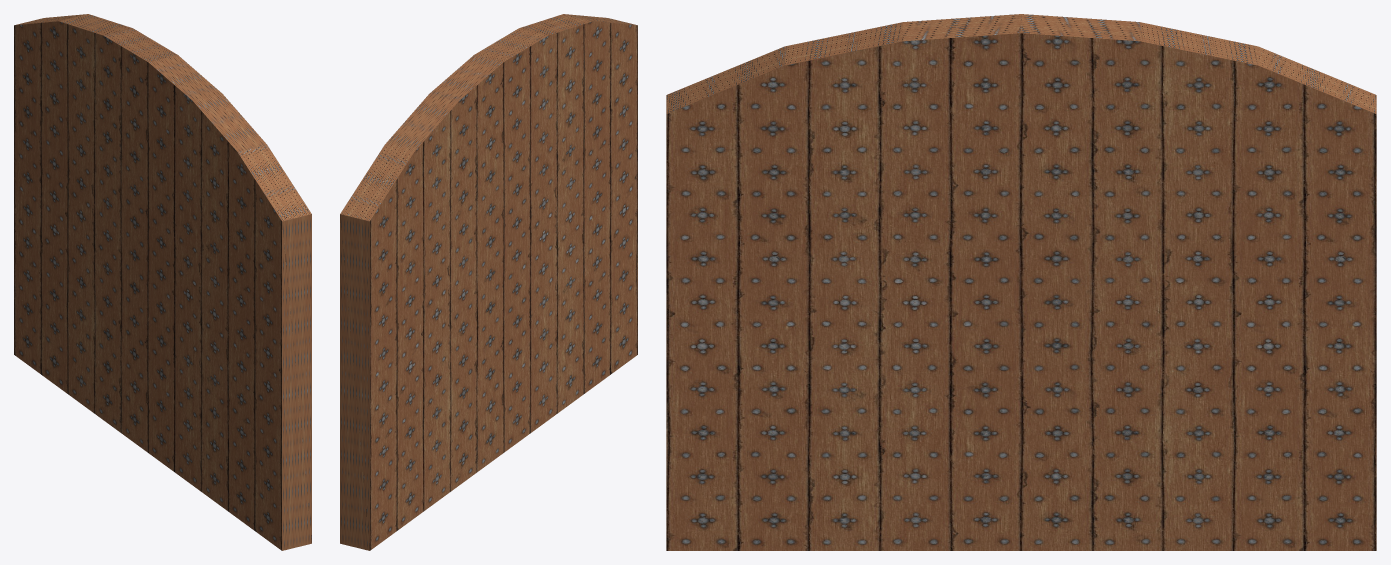
The model's file is Gate.fbx.
3 views of the same model, side by side, from view 1: azimuth 30°, elevation 25°; view 2: azimuth 150°, elevation 25°; view 3: azimuth 270°, elevation 25° (orthographic). The views are drawn at different scales.
Visible parts, largest first — view 1: Cube; view 2: Cube; view 3: Cube.
Part boxes in pixels (box(x1,y1,x2,y2)): Cube: box(14, 14, 311, 550); Cube: box(340, 14, 637, 550); Cube: box(666, 14, 1376, 550).
Size of the model in its own units: 32.57 by 408 by 507.
Materials: 1 (1 with a texture image).
